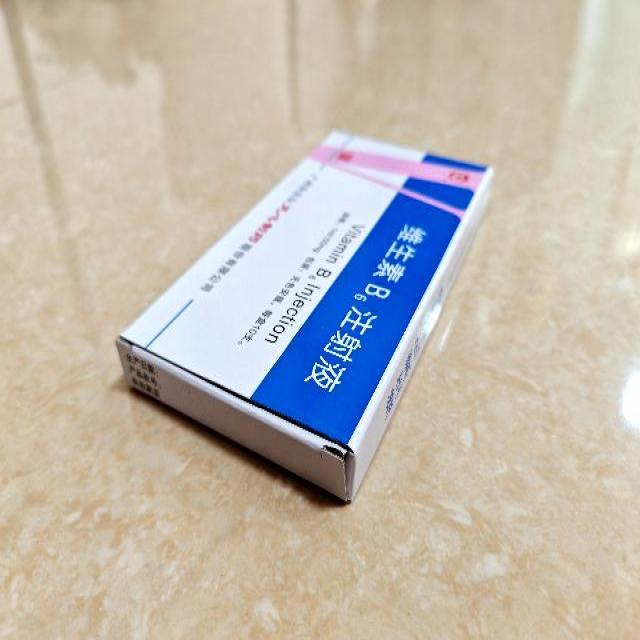box: (118, 130, 494, 505)
